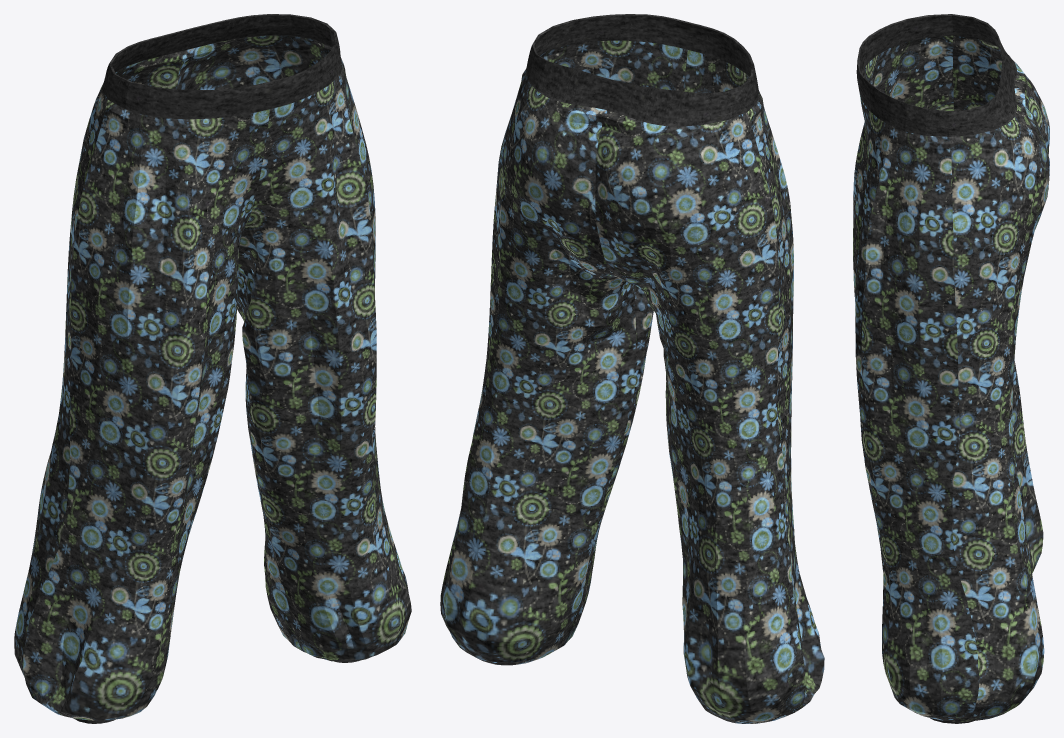
Rendered from garment.glb.
3 views of the same model, side by side, from view 1: azimuth 30°, elevation 25°; view 2: azimuth 150°, elevation 25°; view 3: azimuth 270°, elevation 25° (orthographic). The views are drawn at different scales.
Parts seen in each view (by area): view 1: garment; view 2: garment; view 3: garment.
Part boxes in pixels (bbox=[...]): garment: bbox=[14, 14, 411, 723]; garment: bbox=[440, 14, 824, 723]; garment: bbox=[853, 14, 1049, 723].
Bounding box in the file's own units: 5.03 × 8.37 × 2.49.
1 material, 1 textured.
